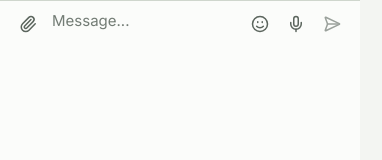
Test case: MessageInput attachments › records, cancels, and releases microphone tracks without sending
This screenshot has width=382, height=160.
Click the button named "Record voice message". click: (296, 24)
box: [280,8,312,40]
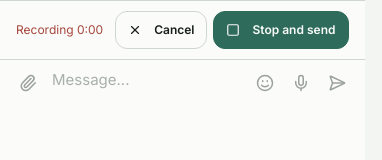
Expected: the element with test id "voice-recording-panel" is shown, [0,1,364,60]
Click the button "Cancel". click: (161, 30)
box: [115,11,208,49]
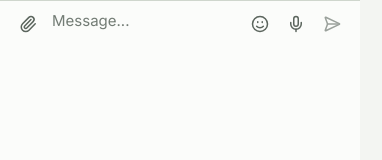
Expected: the element with test id "voice-recording-panel" is gone
